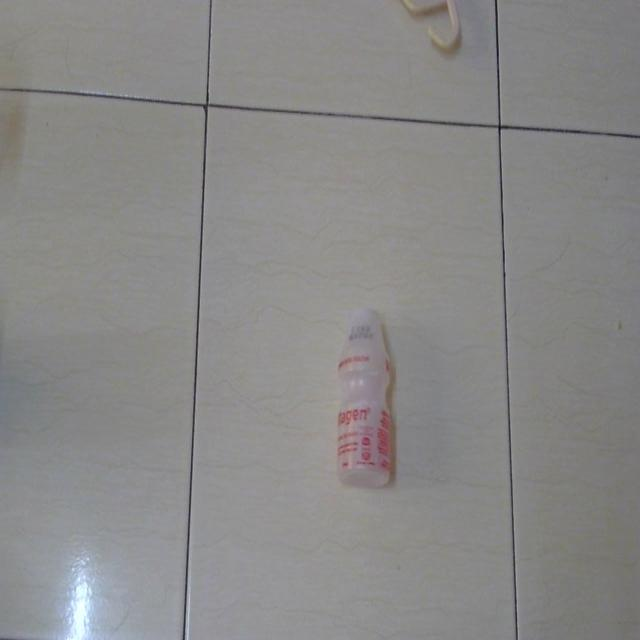plastic_laydown_90rotation: (333, 298, 404, 500)
